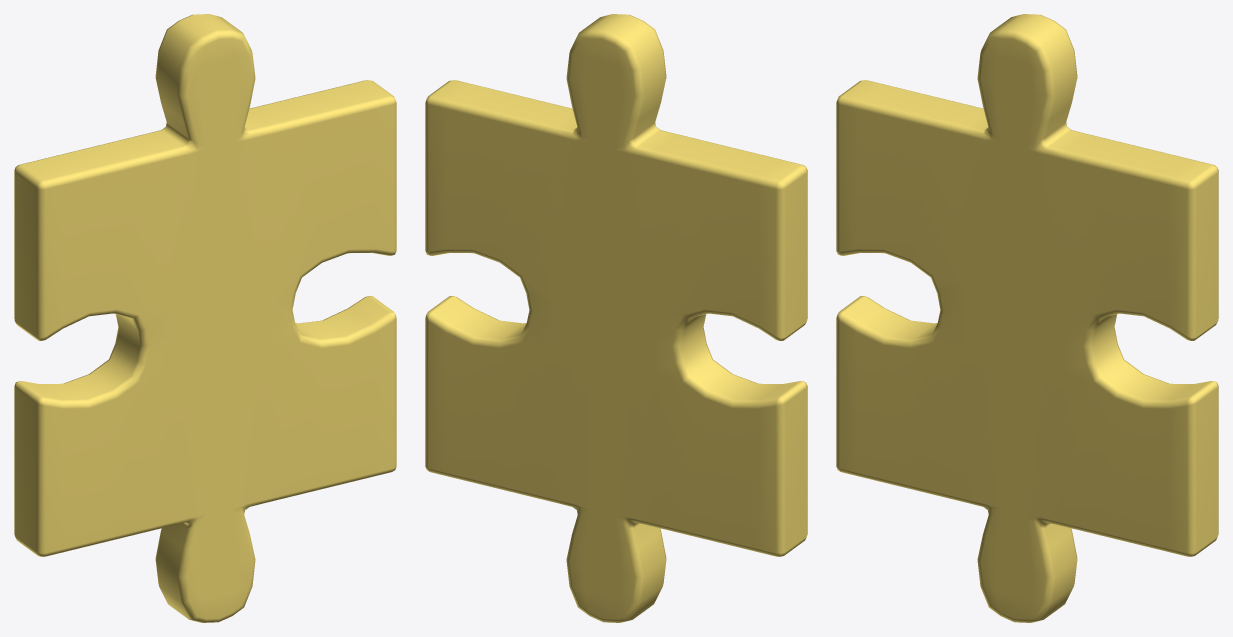
Rendered from Puzzle_4.glb.
3 renders of one model, left to right at view 1: azimuth 30°, elevation 25°; view 2: azimuth 150°, elevation 25°; view 3: azimuth 330°, elevation 25°, orthographic.
Visible parts, largest first — view 1: Puzzle_4; view 2: Puzzle_4; view 3: Puzzle_4.
Boxes of the visible parts, x1=… form: Puzzle_4: x1=14, y1=14, x2=396, y2=622; Puzzle_4: x1=425, y1=14, x2=807, y2=622; Puzzle_4: x1=836, y1=14, x2=1218, y2=622.
Bounding box in the file's own units: 0.5723 × 0.9005 × 0.0779.
Materials: 1 (1 with a texture image).
